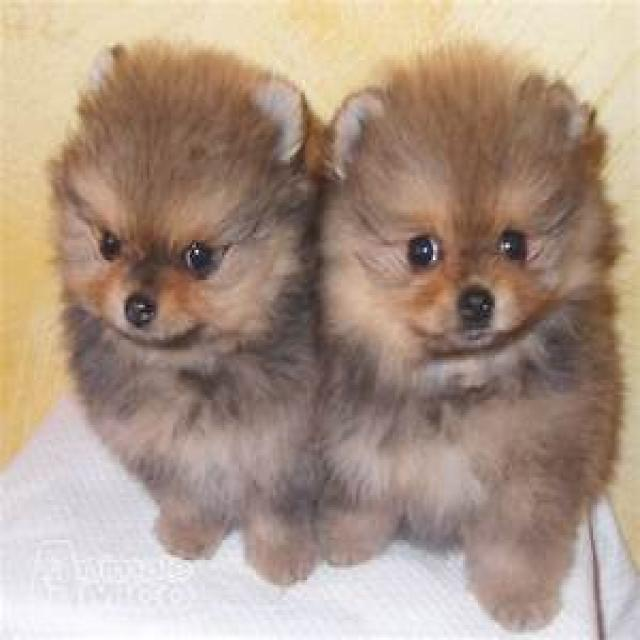dog: (45, 40, 495, 590), (294, 48, 623, 632)
